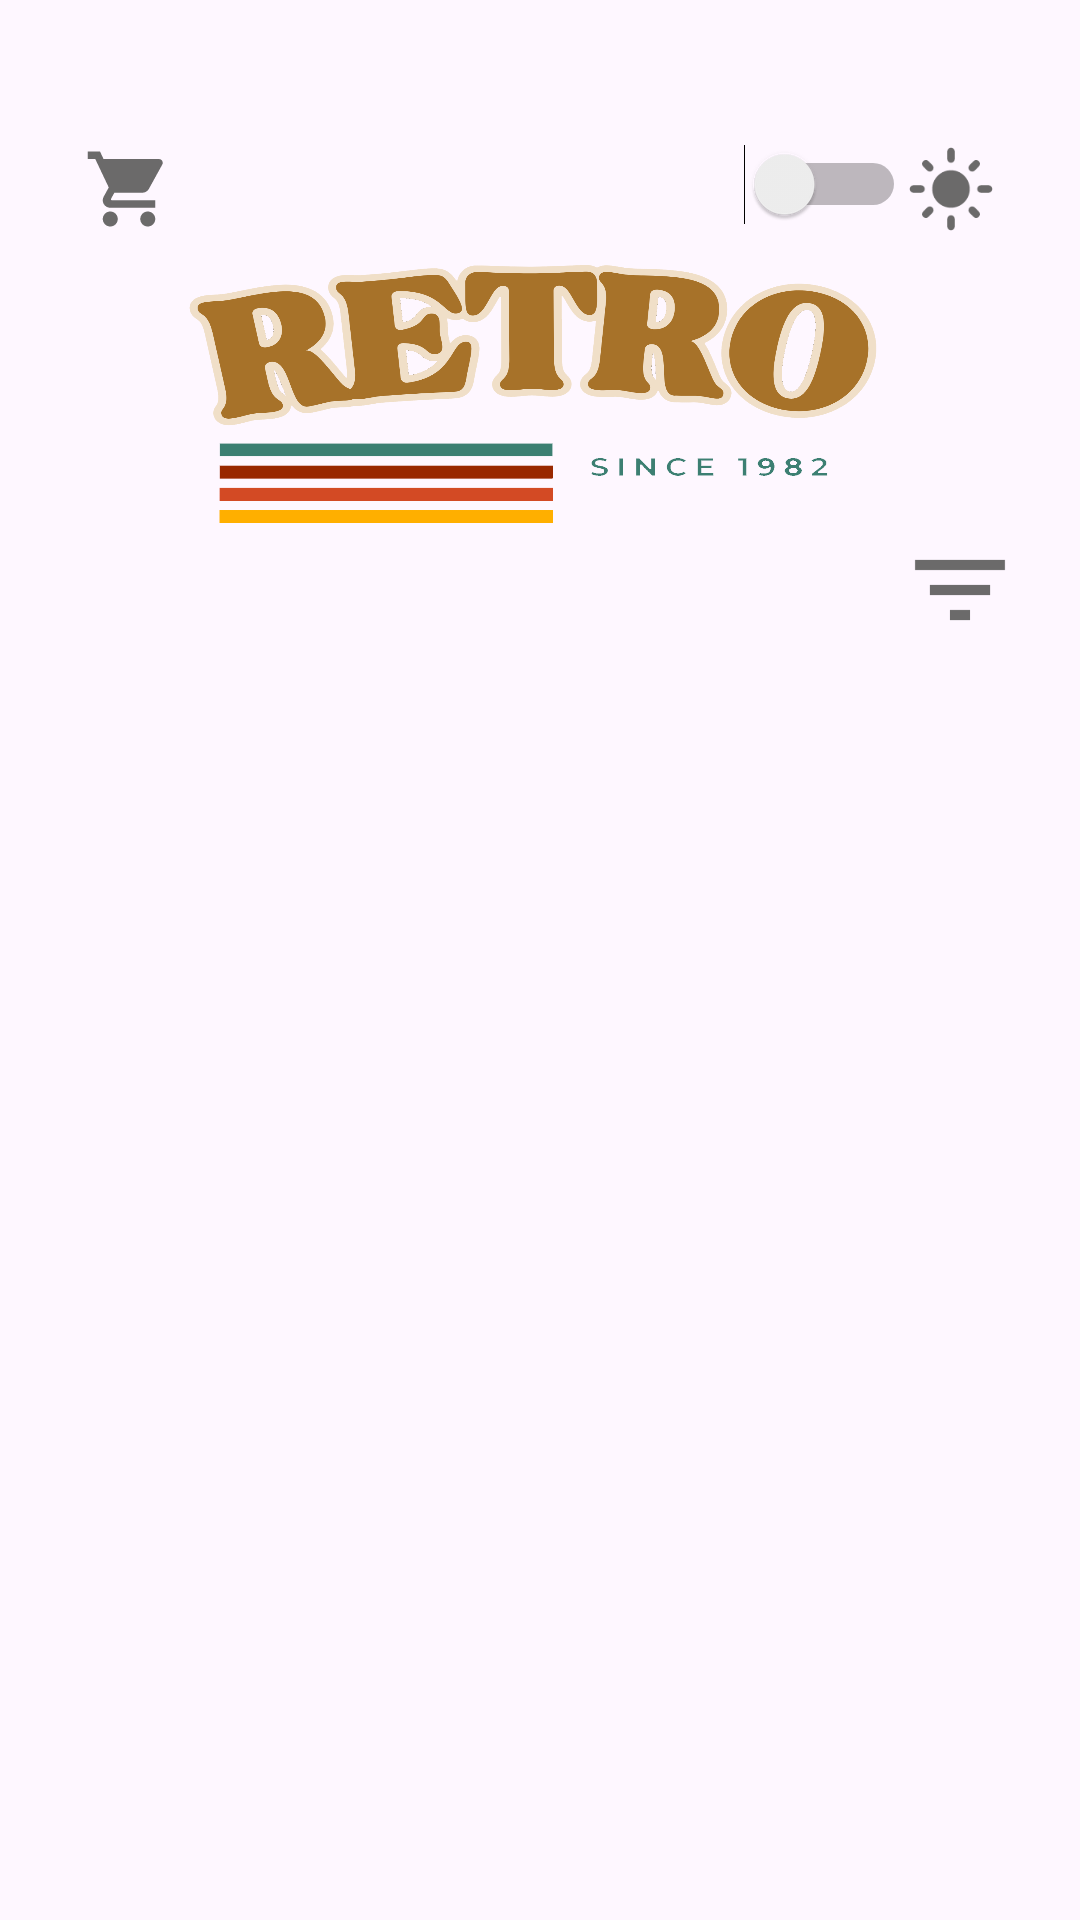

Screen size 1080px x 1920px. Icon name, then its center in pixels as (x=x, y=y):
Filter Icon: (x=960, y=590)
Light Icon: (x=951, y=189)
Shopping Cart Icon: (x=125, y=189)
